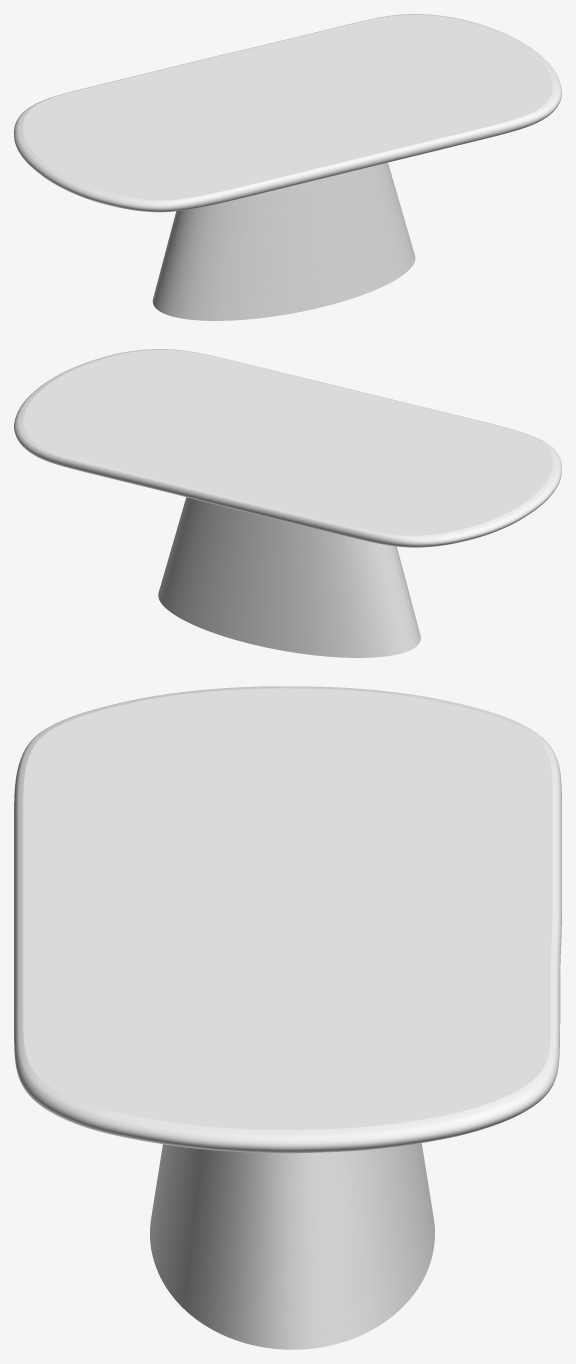
Rendered from purewhite_oval_round_eqone.glb.
3 views of the same model, one above another, from view 1: azimuth 30°, elevation 25°; view 2: azimuth 150°, elevation 25°; view 3: azimuth 270°, elevation 25° (orthographic). The views are drawn at different scales.
Visible parts, largest first — view 1: round_oval, eqone; view 2: round_oval, eqone; view 3: round_oval, eqone.
Boxes of the visible parts, left/top/right/bottom form: round_oval: left=14, top=14, right=561, bottom=212; eqone: left=152, top=162, right=415, bottom=320; round_oval: left=14, top=349, right=561, bottom=547; eqone: left=158, top=497, right=420, bottom=657; round_oval: left=14, top=686, right=561, bottom=1153; eqone: left=150, top=1143, right=434, bottom=1349.
Bounding box in the file's own units: 7.5 × 2.5 × 3.8.
Materials: 1 (1 with a texture image).
